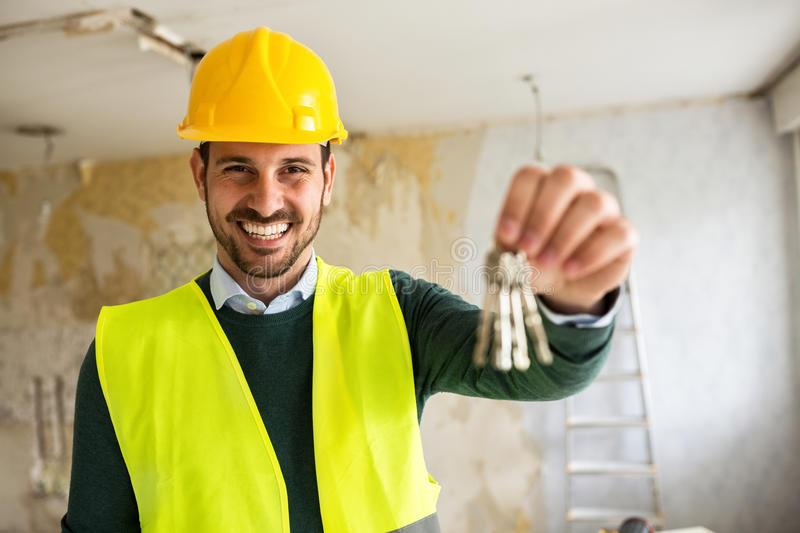helmet: (178, 29, 352, 146)
